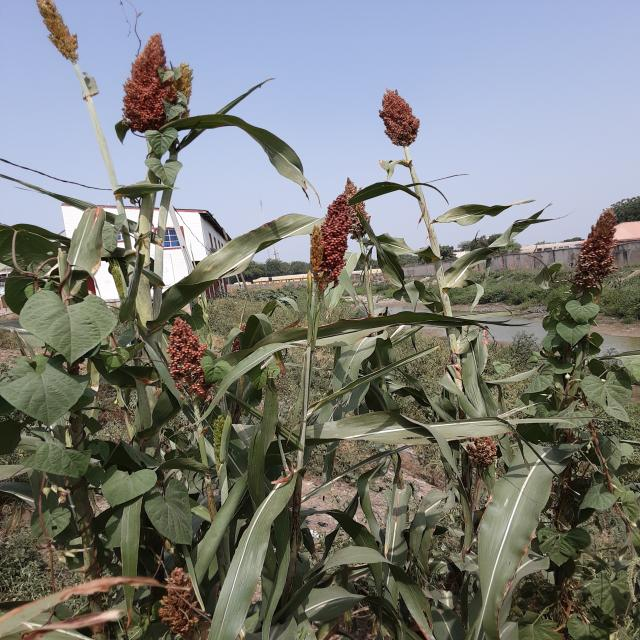RipeSorghum: (283, 196, 372, 314), (361, 78, 437, 155), (125, 30, 177, 128)
